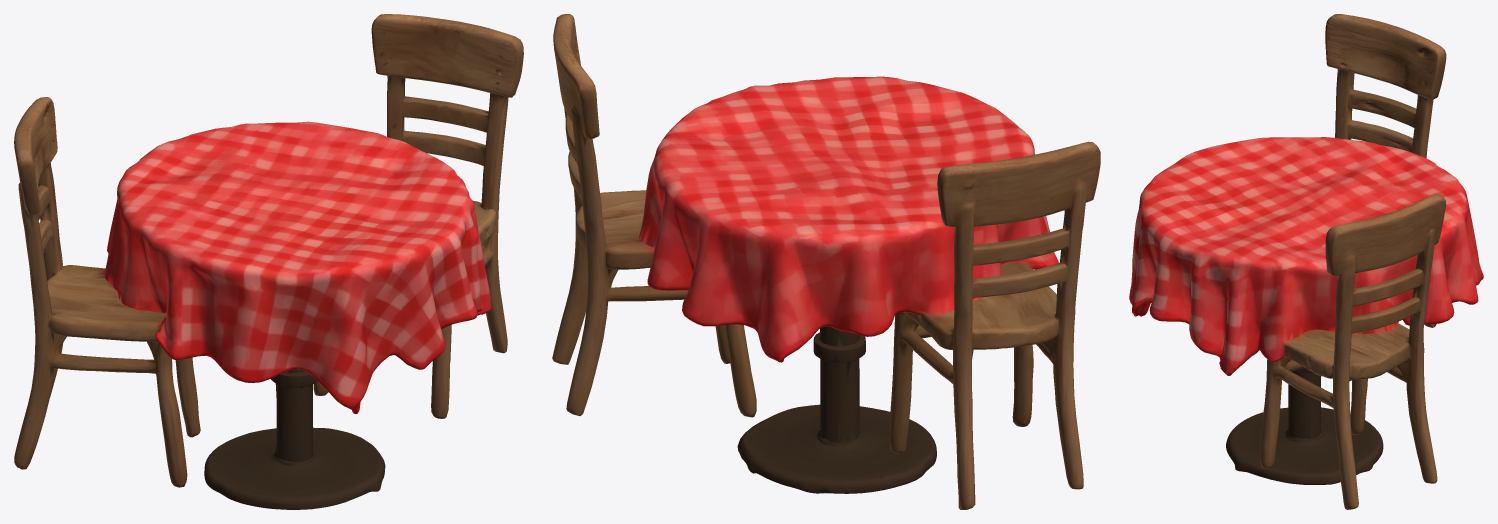
The model's file is padaria_mesa.glb.
The picture shows the model from 3 angles, left to right: view 1: azimuth 30°, elevation 25°; view 2: azimuth 150°, elevation 25°; view 3: azimuth 270°, elevation 25°; orthographic projection. The views are drawn at different scales.
Parts seen in each view (by area): view 1: tripo_node_ccba5df8-ee07-47e5-b5ee-1bc8e563ed8d; view 2: tripo_node_ccba5df8-ee07-47e5-b5ee-1bc8e563ed8d; view 3: tripo_node_ccba5df8-ee07-47e5-b5ee-1bc8e563ed8d.
Part boxes in pixels (x1,y1,x2,y2): tripo_node_ccba5df8-ee07-47e5-b5ee-1bc8e563ed8d: (14,14,523,509); tripo_node_ccba5df8-ee07-47e5-b5ee-1bc8e563ed8d: (552,14,1100,509); tripo_node_ccba5df8-ee07-47e5-b5ee-1bc8e563ed8d: (1129,14,1483,509).
Bounding box in the file's own units: 0.9771 × 0.6795 × 0.6657.
Materials: 1 (1 with a texture image).
